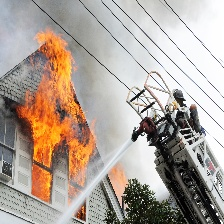fire: (17, 34, 89, 220)
smoke: (11, 1, 151, 35)
